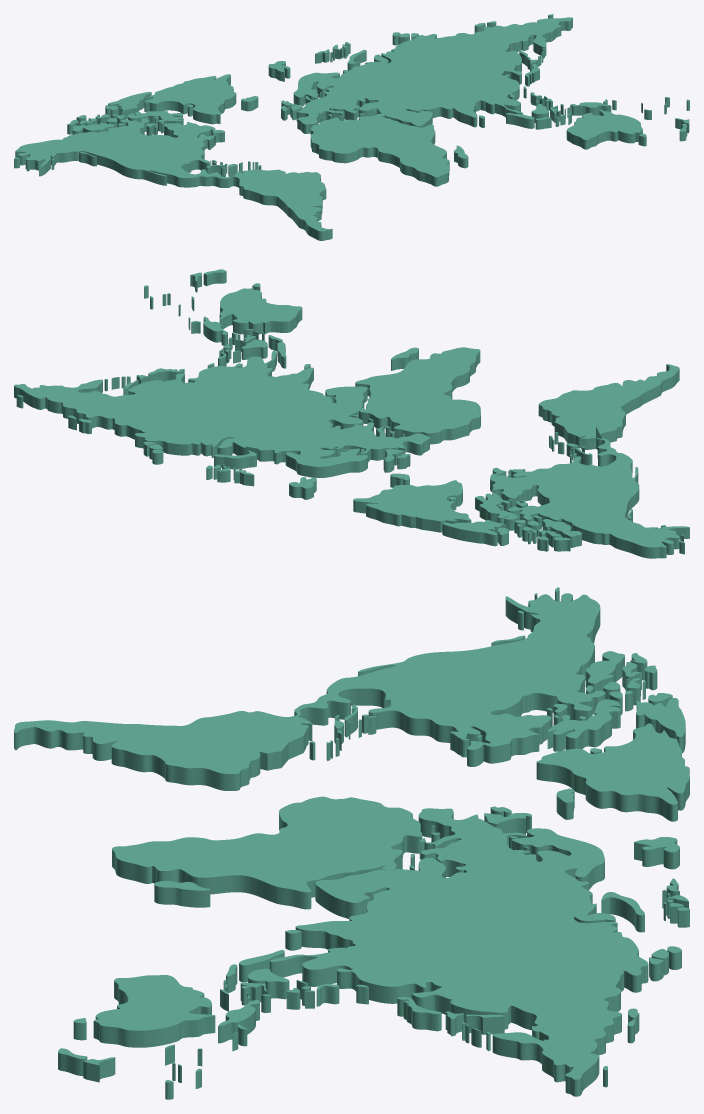
Rendered from world map.fbx.
3 views of the same model, one above another, from view 1: azimuth 30°, elevation 25°; view 2: azimuth 150°, elevation 25°; view 3: azimuth 270°, elevation 25° (orthographic). The views are drawn at different scales.
Parts seen in each view (by area): view 1: WorldMap_Mesh; view 2: WorldMap_Mesh; view 3: WorldMap_Mesh.
Boxes of the visible parts, x1,y1,x2,y2 form: WorldMap_Mesh: (14,14,689,240); WorldMap_Mesh: (14,269,689,558); WorldMap_Mesh: (14,587,689,1099).
Bounding box in the file's own units: 1109 × 35.61 × 640.
